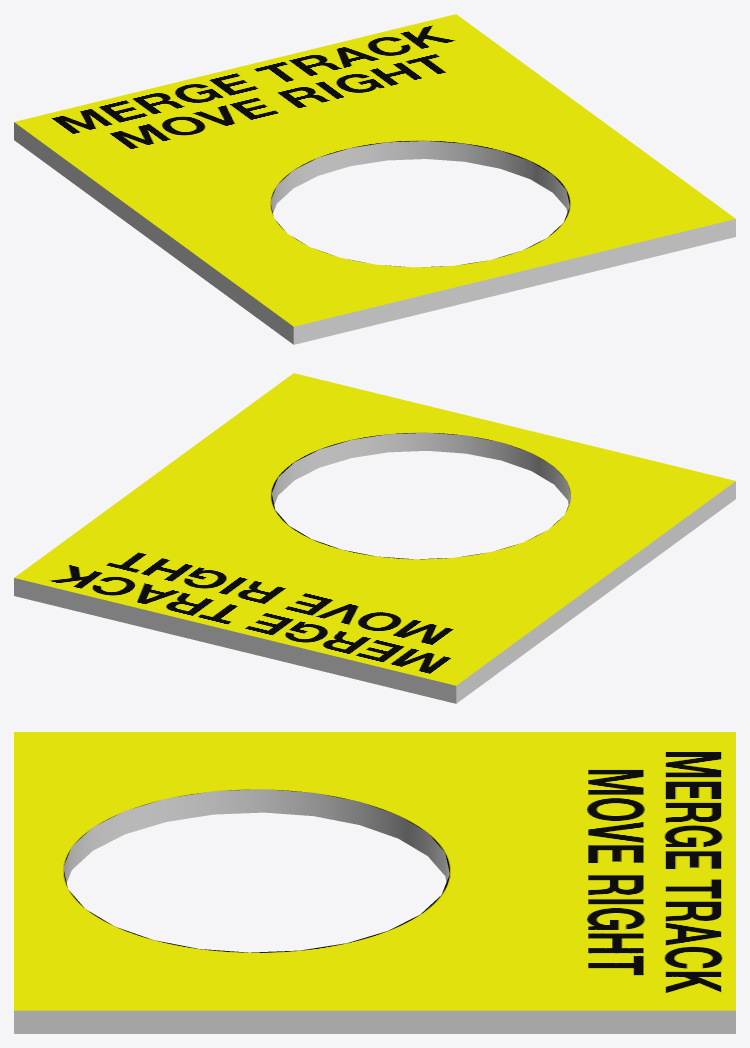
File: mergeright.dae
3 views of the same model, one above another, from view 1: azimuth 30°, elevation 25°; view 2: azimuth 150°, elevation 25°; view 3: azimuth 270°, elevation 25° (orthographic). The views are drawn at different scales.
Visible parts, largest first — view 1: SketchUp (×3); view 2: SketchUp (×3); view 3: SketchUp (×3).
Boxes of the visible parts, x1=… form: SketchUp (×3): x1=14, y1=14, x2=735, y2=344; SketchUp (×3): x1=14, y1=373, x2=735, y2=703; SketchUp (×3): x1=14, y1=732, x2=735, y2=1033.
Bounding box in the file's own units: 2.01 × 2.2 × 0.0787.
Materials: 2 (1 with a texture image).
